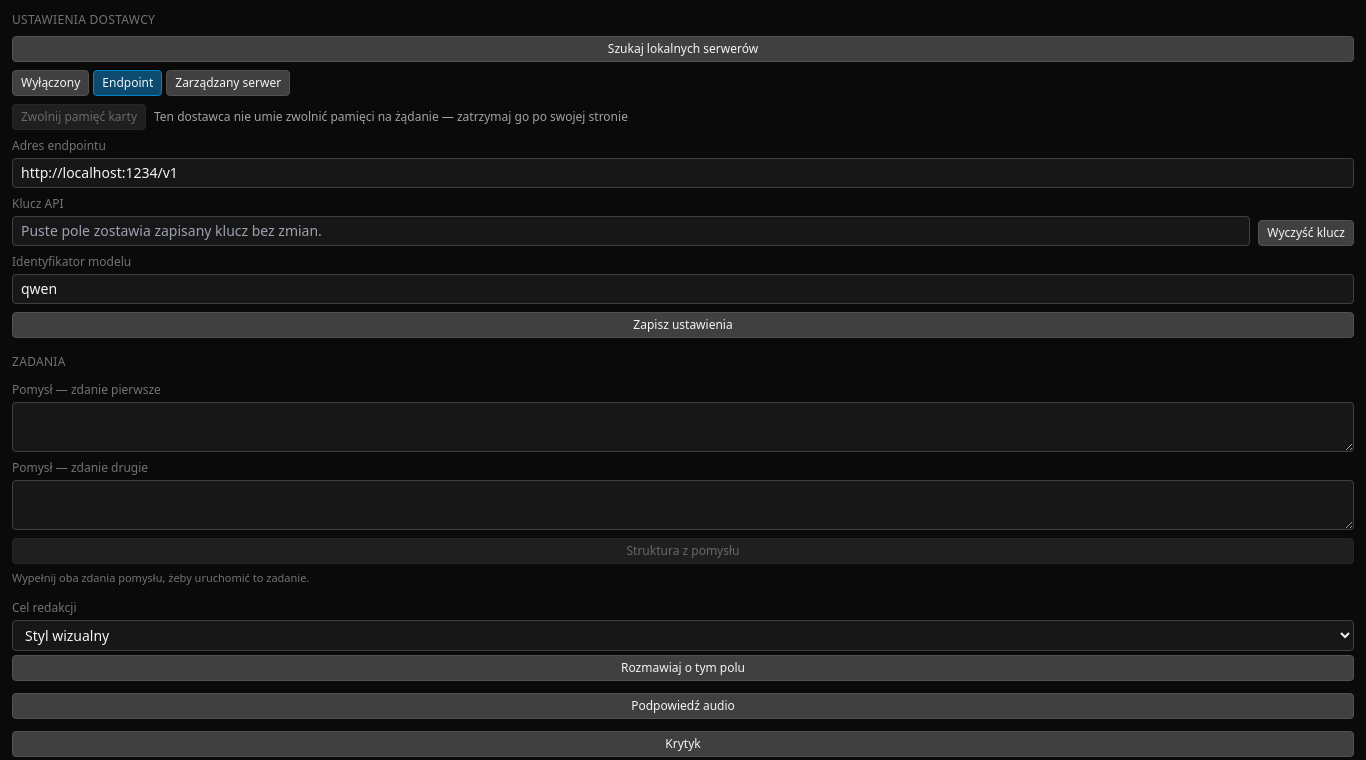
it: LlmPanel — czyszczenie klucza API (fix round 1/5, punkt 1) › "Wyczyść klucz" wysyła null, pokazuje potwierdzenie, a pole zostaje puste — nie brudnopis sprzed czyszczenia
Check: the password field labelled "Klucz API" is shown, box [12,216,1250,246]
Click the button "Wyczyść klucz" at (1306, 233), box [1258,220,1354,246]
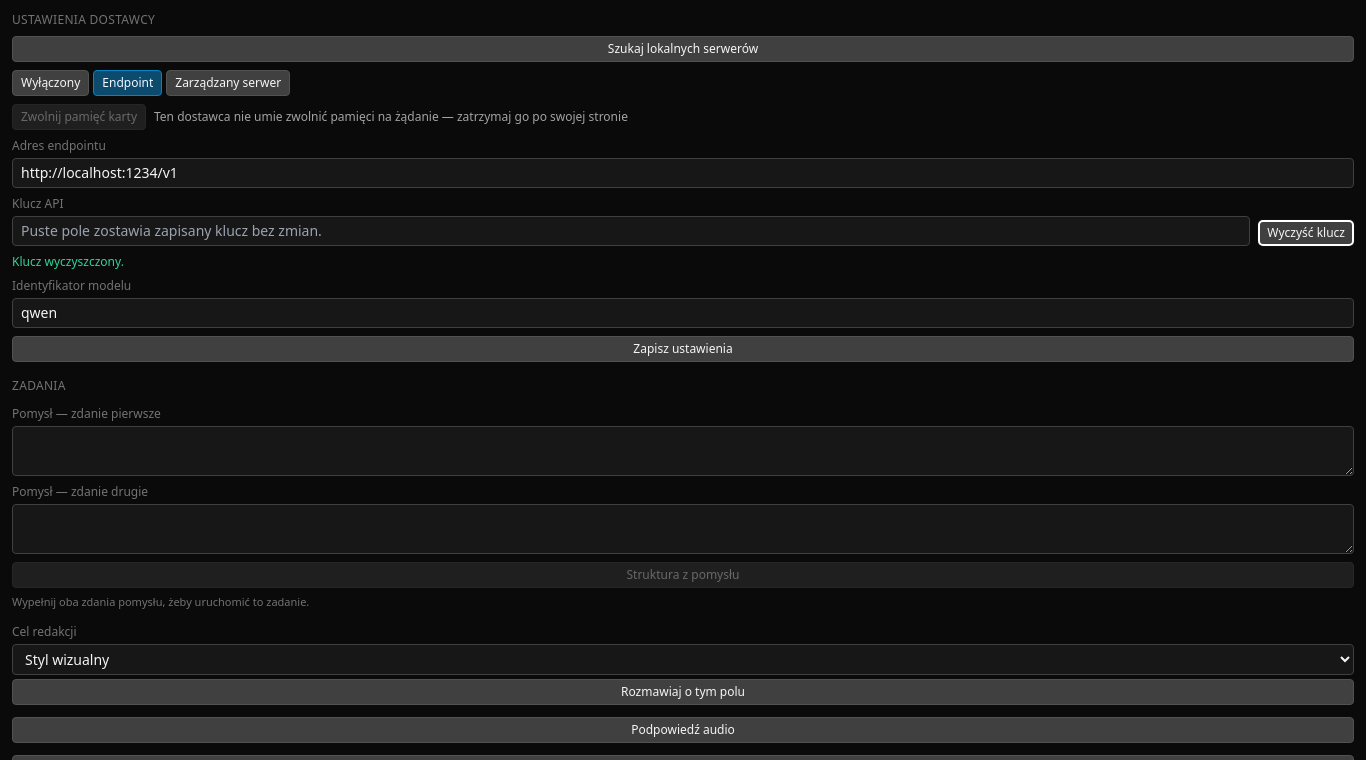
Check: the password field labelled "Klucz API" is empty, box [12,216,1250,246]
Check: the text "Klucz wyczyszczony." is shown, box [12,253,124,270]
